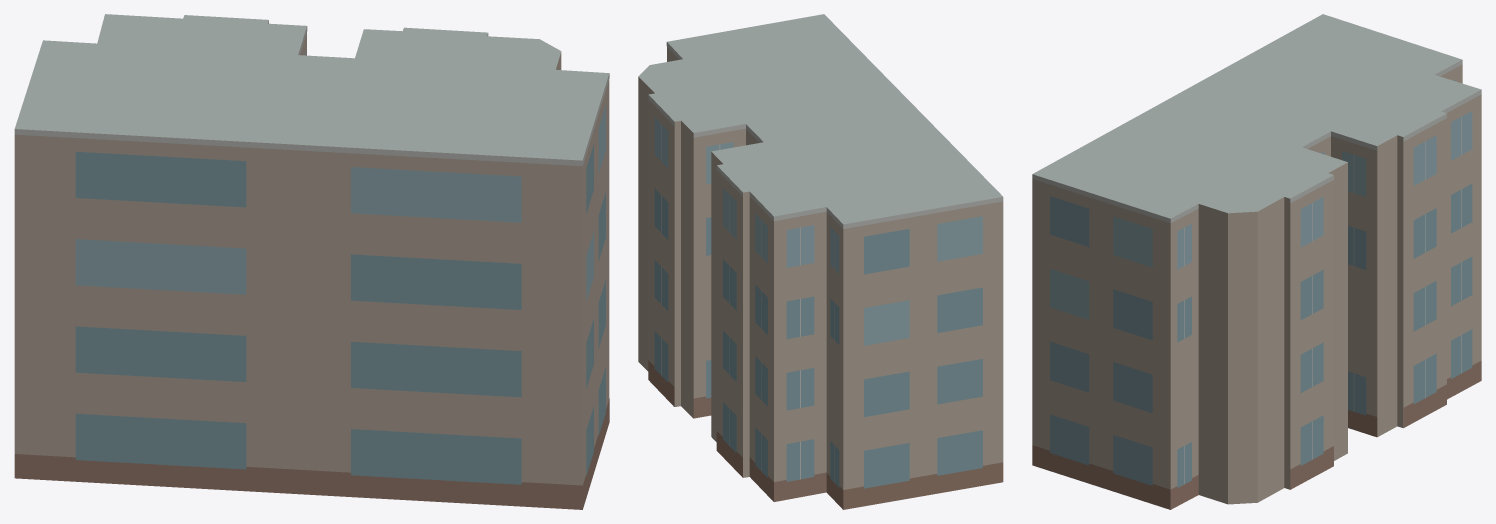
The model's file is survey-upis-33024332.glb.
3 views of the same model, side by side, from view 1: azimuth 30°, elevation 25°; view 2: azimuth 150°, elevation 25°; view 3: azimuth 270°, elevation 25° (orthographic). The views are drawn at different scales.
Parts seen in each view (by area): view 1: survey-upis-33024332.tmp; view 2: survey-upis-33024332.tmp; view 3: survey-upis-33024332.tmp.
Part boxes in pixels (x1,y1,x2,y2): survey-upis-33024332.tmp: (14,14,609,509); survey-upis-33024332.tmp: (638,14,1003,509); survey-upis-33024332.tmp: (1032,14,1481,509).
Size of the model in its own units: 22.93 by 15.2 by 21.27.
